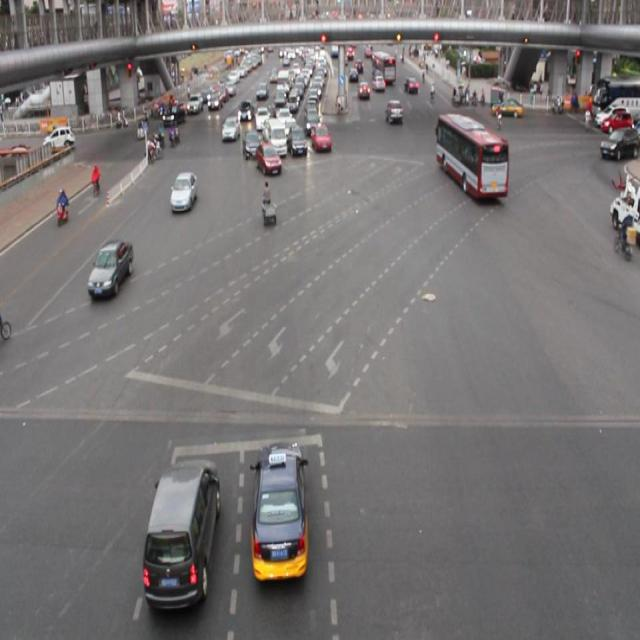car: (251, 442, 307, 580), (90, 241, 133, 296), (170, 173, 198, 210), (256, 142, 280, 176), (288, 125, 310, 158), (310, 123, 330, 152), (243, 129, 262, 158), (221, 115, 239, 143)
truck: (142, 456, 219, 611), (264, 118, 287, 156)
van: (436, 111, 507, 197)
